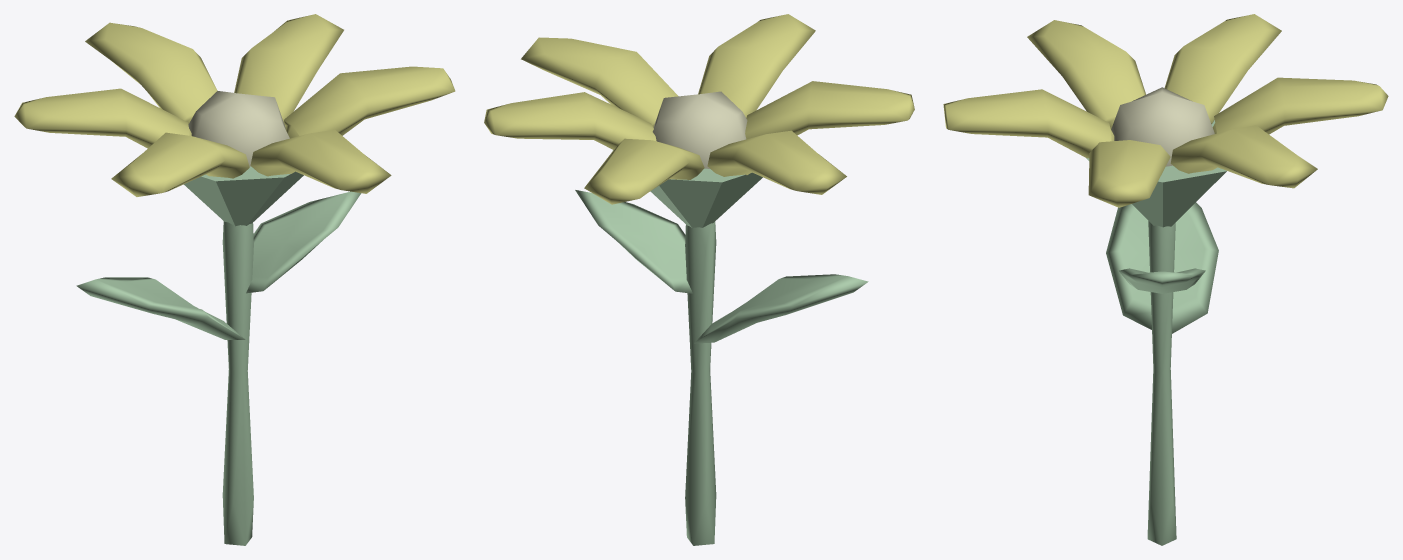
File: yellow flower.fbx
3 views of the same model, side by side, from view 1: azimuth 30°, elevation 25°; view 2: azimuth 150°, elevation 25°; view 3: azimuth 270°, elevation 25° (orthographic).
Visible parts, largest first — view 1: pCube12, pCube5, pCube7, pCube8, pCube6, pCube10, pCube9, pCube13, pCube11, pCube14, pCone2; view 2: pCube12, pCube5, pCube9, pCube10, pCube6, pCube8, pCube13, pCube7, pCube11, pCube14, pCone2; view 3: pCube14, pCube12, pCube10, pCube9, pCube7, pCube8, pCube6, pCube11, pCube5, pCone2, pCube13.
Boxes of the visible parts, x1,y1,x2,y2 form: pCube12: (222, 221, 253, 545); pCube5: (284, 66, 455, 138); pCube7: (85, 22, 217, 124); pCube8: (14, 88, 191, 148); pCube6: (234, 14, 343, 124); pCube10: (250, 129, 391, 193); pCube9: (111, 132, 249, 196); pCube13: (246, 191, 360, 293); pCube11: (188, 91, 289, 166); pCube14: (76, 277, 245, 339); pCone2: (184, 166, 303, 226); pCube12: (685, 221, 716, 545); pCube5: (521, 37, 678, 127); pCube9: (745, 81, 914, 139); pCube10: (698, 14, 815, 117); pCube6: (484, 92, 656, 149); pCube8: (707, 130, 846, 194); pCube13: (575, 190, 692, 293); pCube7: (584, 138, 704, 204); pCube11: (652, 91, 747, 168); pCube14: (694, 274, 868, 343); pCone2: (612, 150, 762, 228); pCube14: (1106, 202, 1218, 333); pCube12: (1147, 221, 1176, 545); pCube10: (943, 89, 1114, 158); pCube9: (1027, 20, 1145, 129); pCube7: (1212, 77, 1388, 134); pCube8: (1164, 14, 1281, 123); pCube6: (1170, 125, 1317, 188); pCube11: (1111, 87, 1214, 166); pCube5: (1088, 140, 1170, 207); pCone2: (1086, 120, 1226, 227); pCube13: (1119, 268, 1205, 293).
Size of the model in its own units: 1.11 by 1.3 by 1.16.
